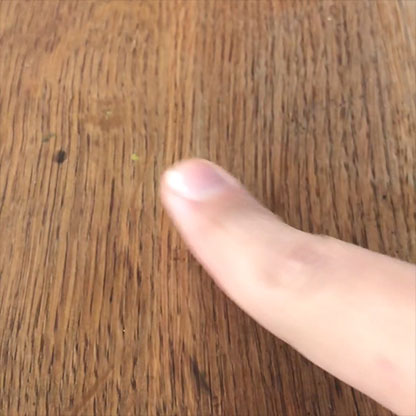fingertip: (150, 146, 256, 223)
